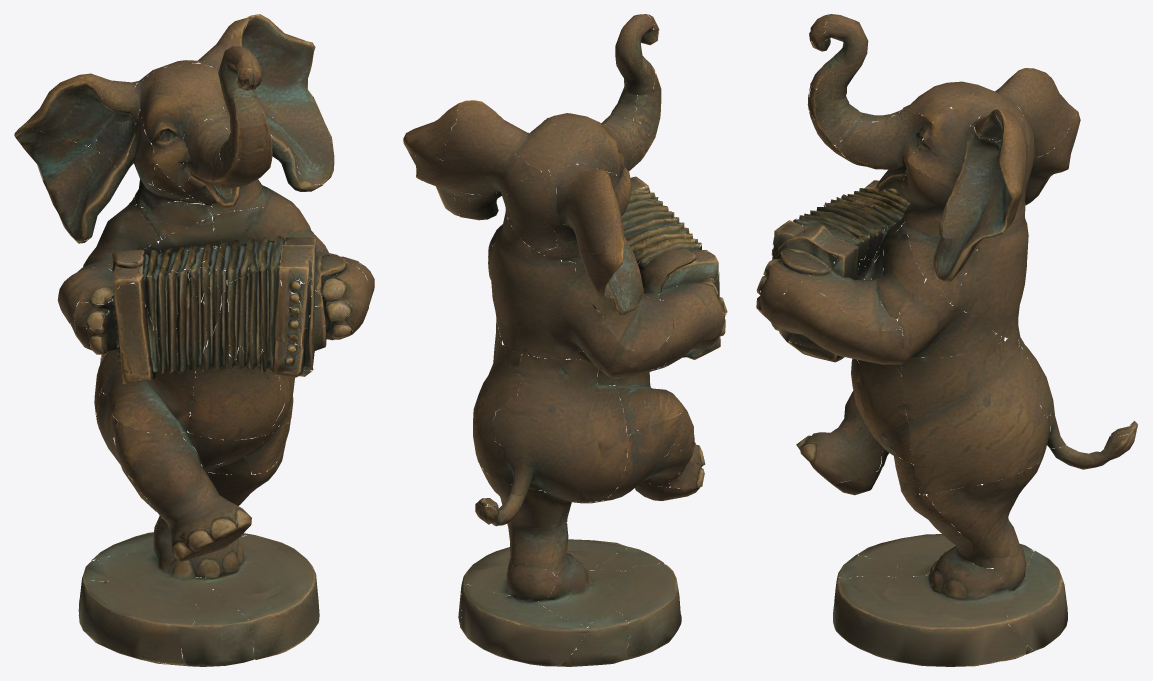
The model's file is h_clock_elephant.glb.
3 views of the same model, side by side, from view 1: azimuth 30°, elevation 25°; view 2: azimuth 150°, elevation 25°; view 3: azimuth 270°, elevation 25° (orthographic). The views are drawn at different scales.
Parts seen in each view (by area): view 1: tripo_node_b11f22a7-a77f-4399-ba4c-3d103d261c03; view 2: tripo_node_b11f22a7-a77f-4399-ba4c-3d103d261c03; view 3: tripo_node_b11f22a7-a77f-4399-ba4c-3d103d261c03.
Boxes of the visible parts, x1,y1,x2,y2 form: tripo_node_b11f22a7-a77f-4399-ba4c-3d103d261c03: (14, 14, 374, 666); tripo_node_b11f22a7-a77f-4399-ba4c-3d103d261c03: (403, 14, 727, 666); tripo_node_b11f22a7-a77f-4399-ba4c-3d103d261c03: (756, 14, 1137, 666).
Size of the model in its own units: 0.5001 by 1 by 0.5816.
Materials: 1 (1 with a texture image).
